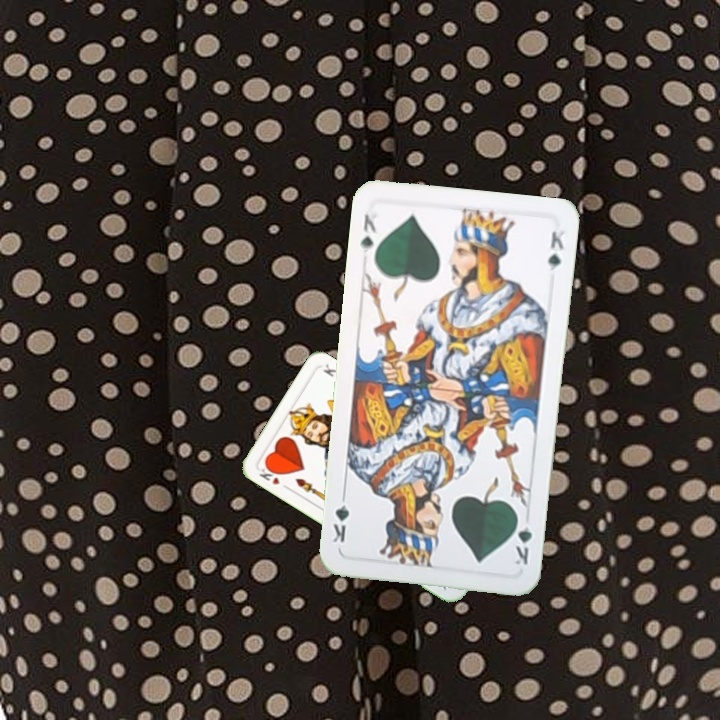GK: (511, 510, 534, 570), (356, 209, 379, 257)
HK: (255, 461, 283, 487)
